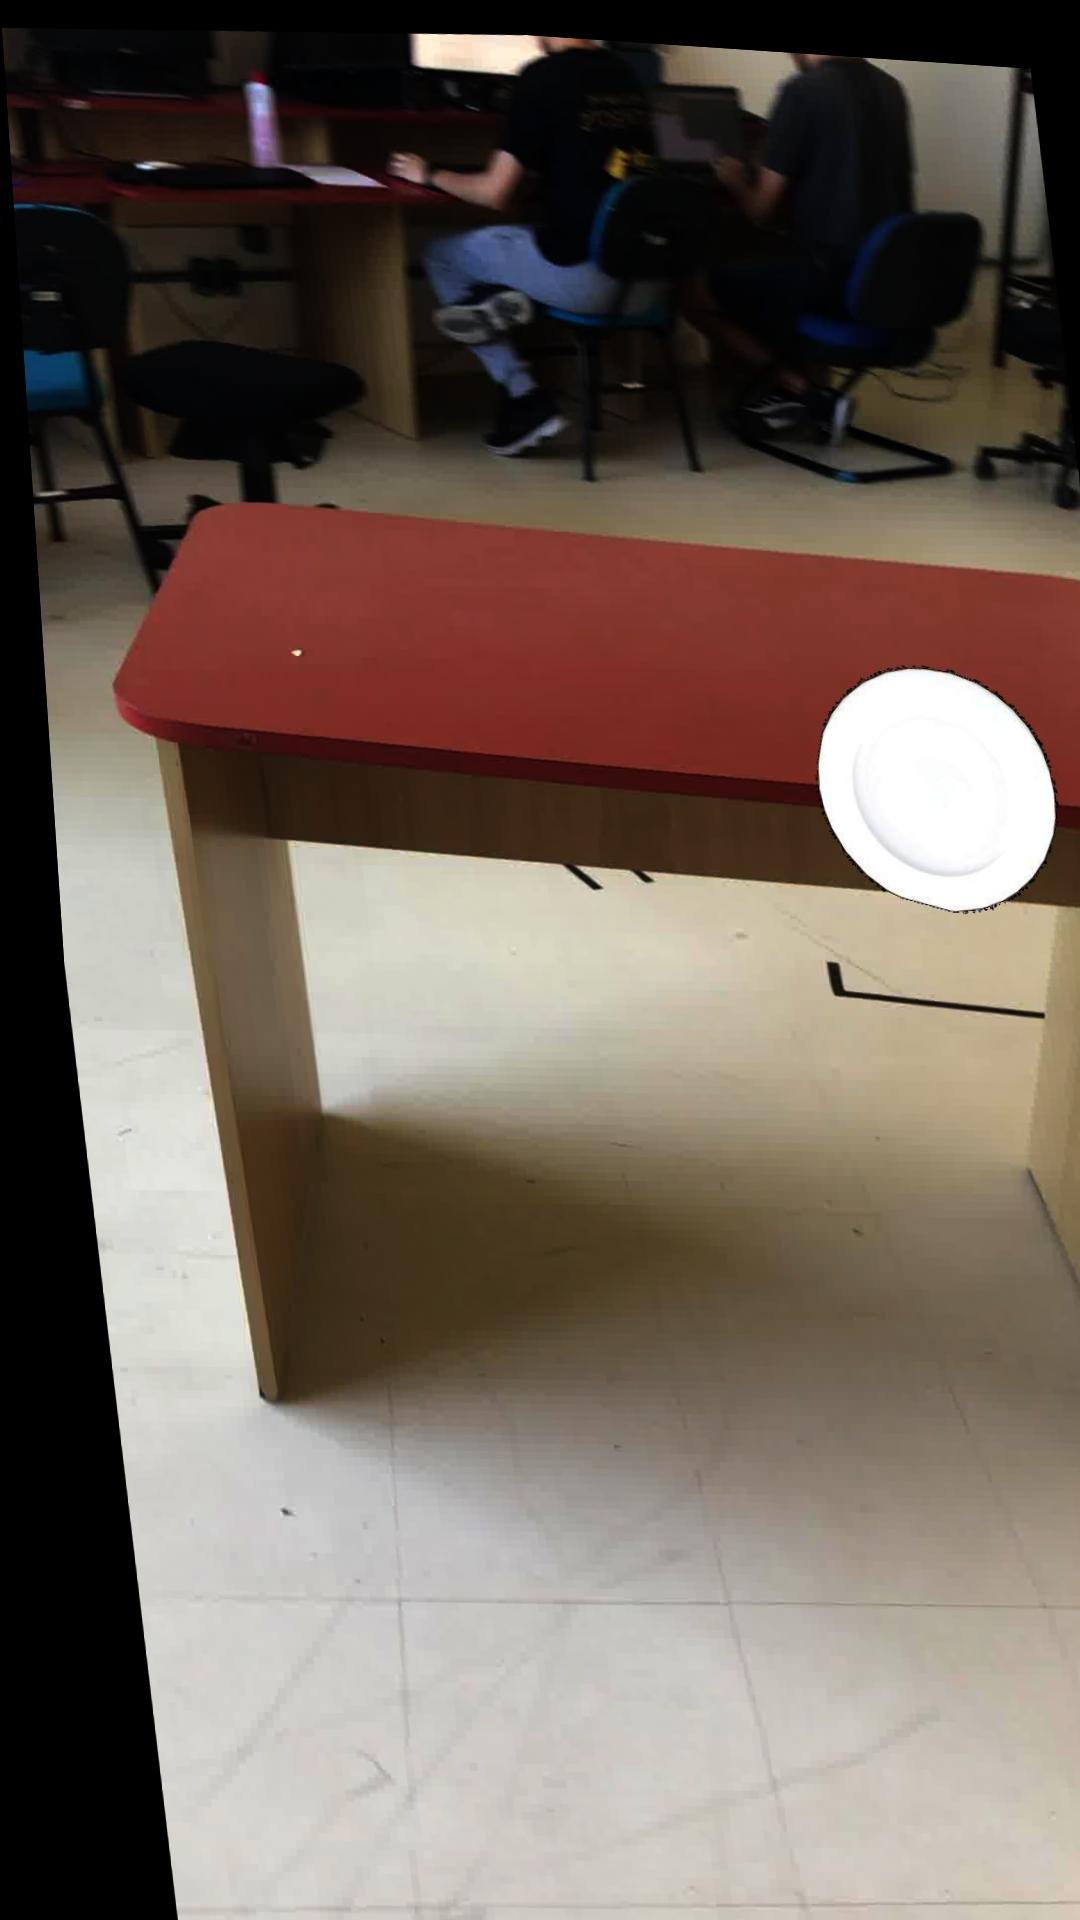plate: (807, 653, 1048, 898)
